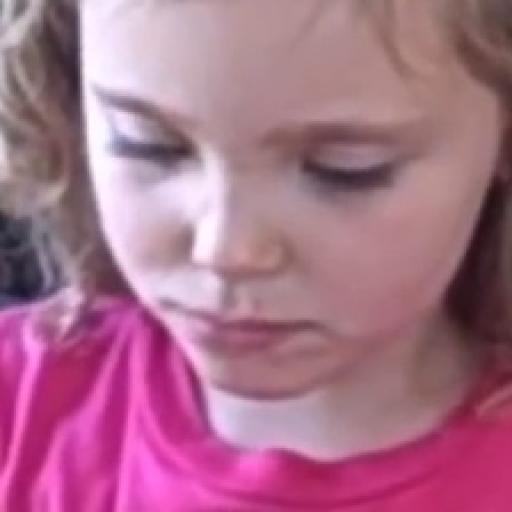Autism: (44, 1, 512, 481)
